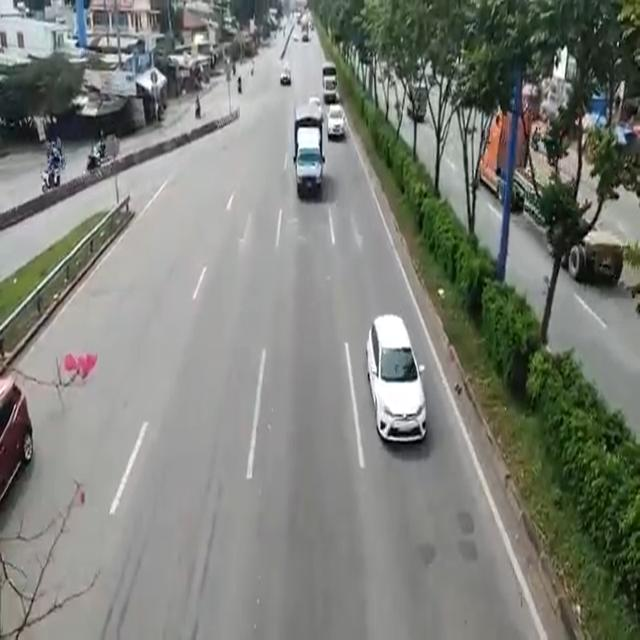car: (366, 311, 427, 449), (327, 100, 342, 138)
truck: (296, 106, 322, 196)
